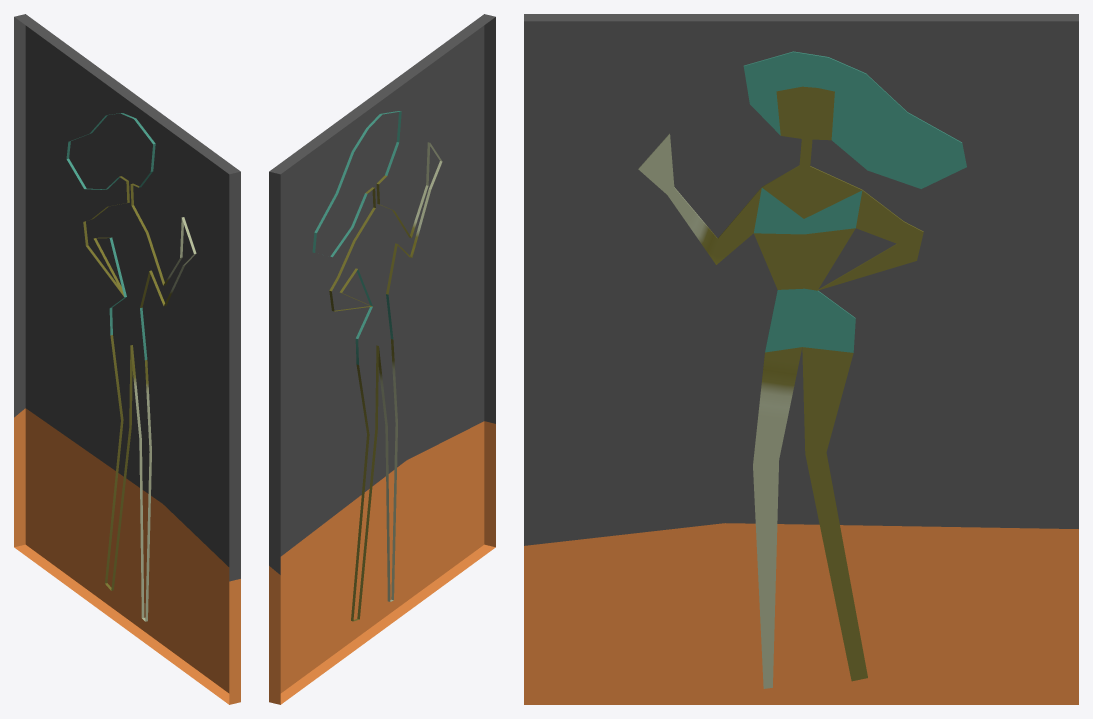
Rendered from Garage_Poster.fbx.
3 views of the same model, side by side, from view 1: azimuth 30°, elevation 25°; view 2: azimuth 150°, elevation 25°; view 3: azimuth 270°, elevation 25° (orthographic). The views are drawn at different scales.
Visible parts, largest first — view 1: Garage_Poster; view 2: Garage_Poster; view 3: Garage_Poster.
Part boxes in pixels (<box>): Garage_Poster: <box>14,14,240,704</box>; Garage_Poster: <box>269,14,495,704</box>; Garage_Poster: <box>524,14,1078,704</box>.
Bounding box in the file's own units: 2.29 × 92.27 × 67.87.
